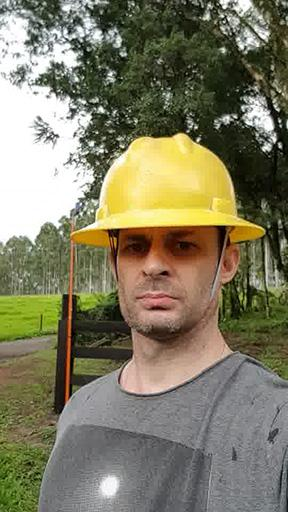Vara_Manobra: (64, 221, 76, 404)
